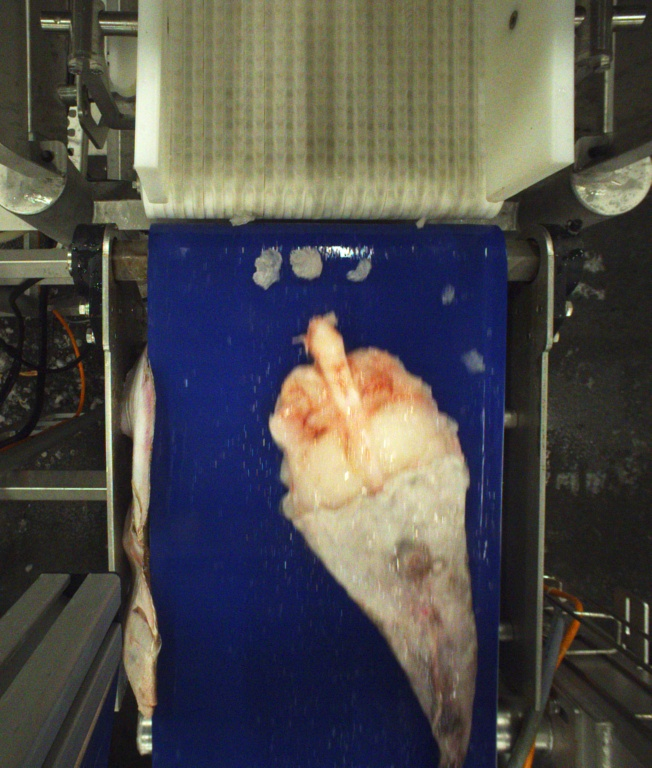ANF: (270, 316, 481, 768)
